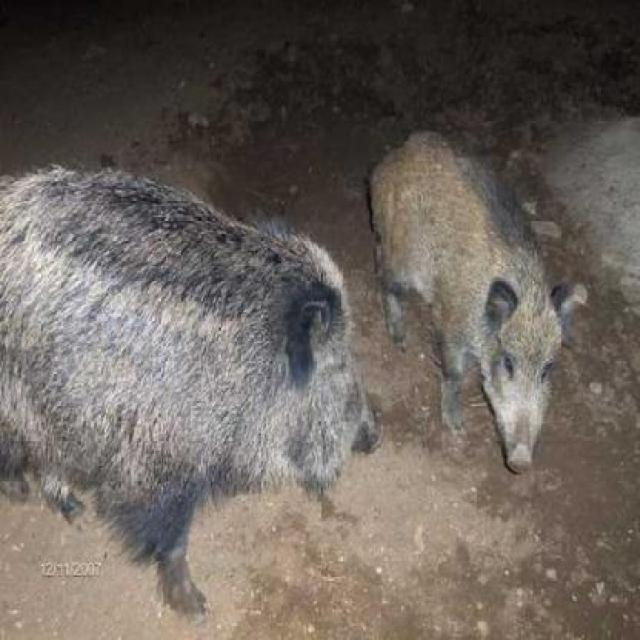Boar: (0, 113, 415, 598)
